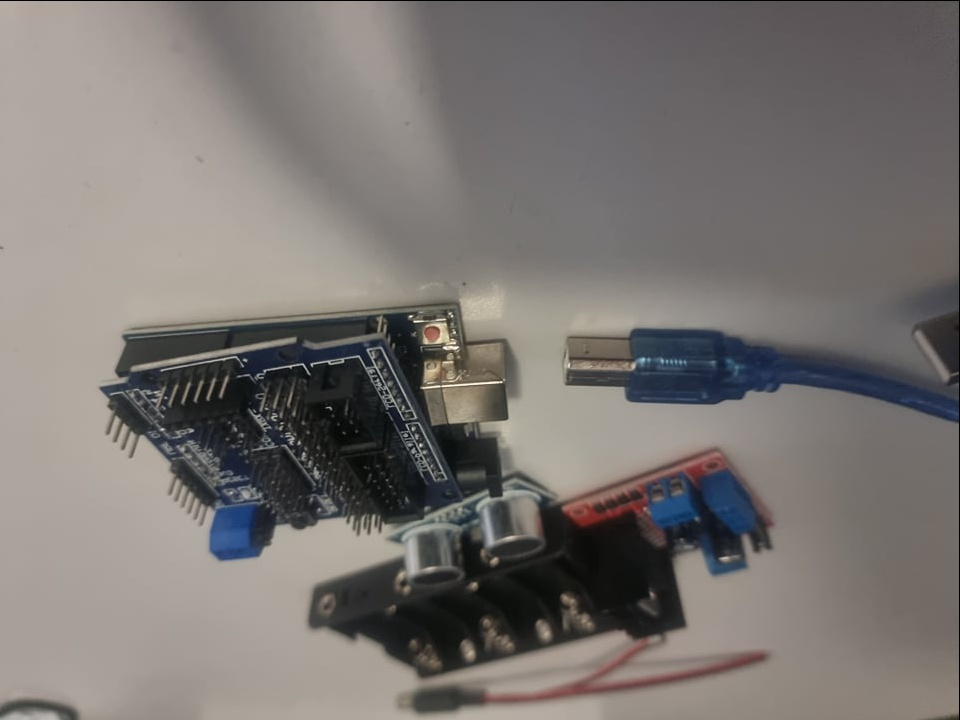5V EXPANSION: (101, 346, 403, 576)
BATTERY BOX: (312, 521, 577, 682)
MOTOR: (578, 447, 776, 646)
SENSOR: (386, 478, 548, 588)
UNO R3: (413, 293, 527, 498)
